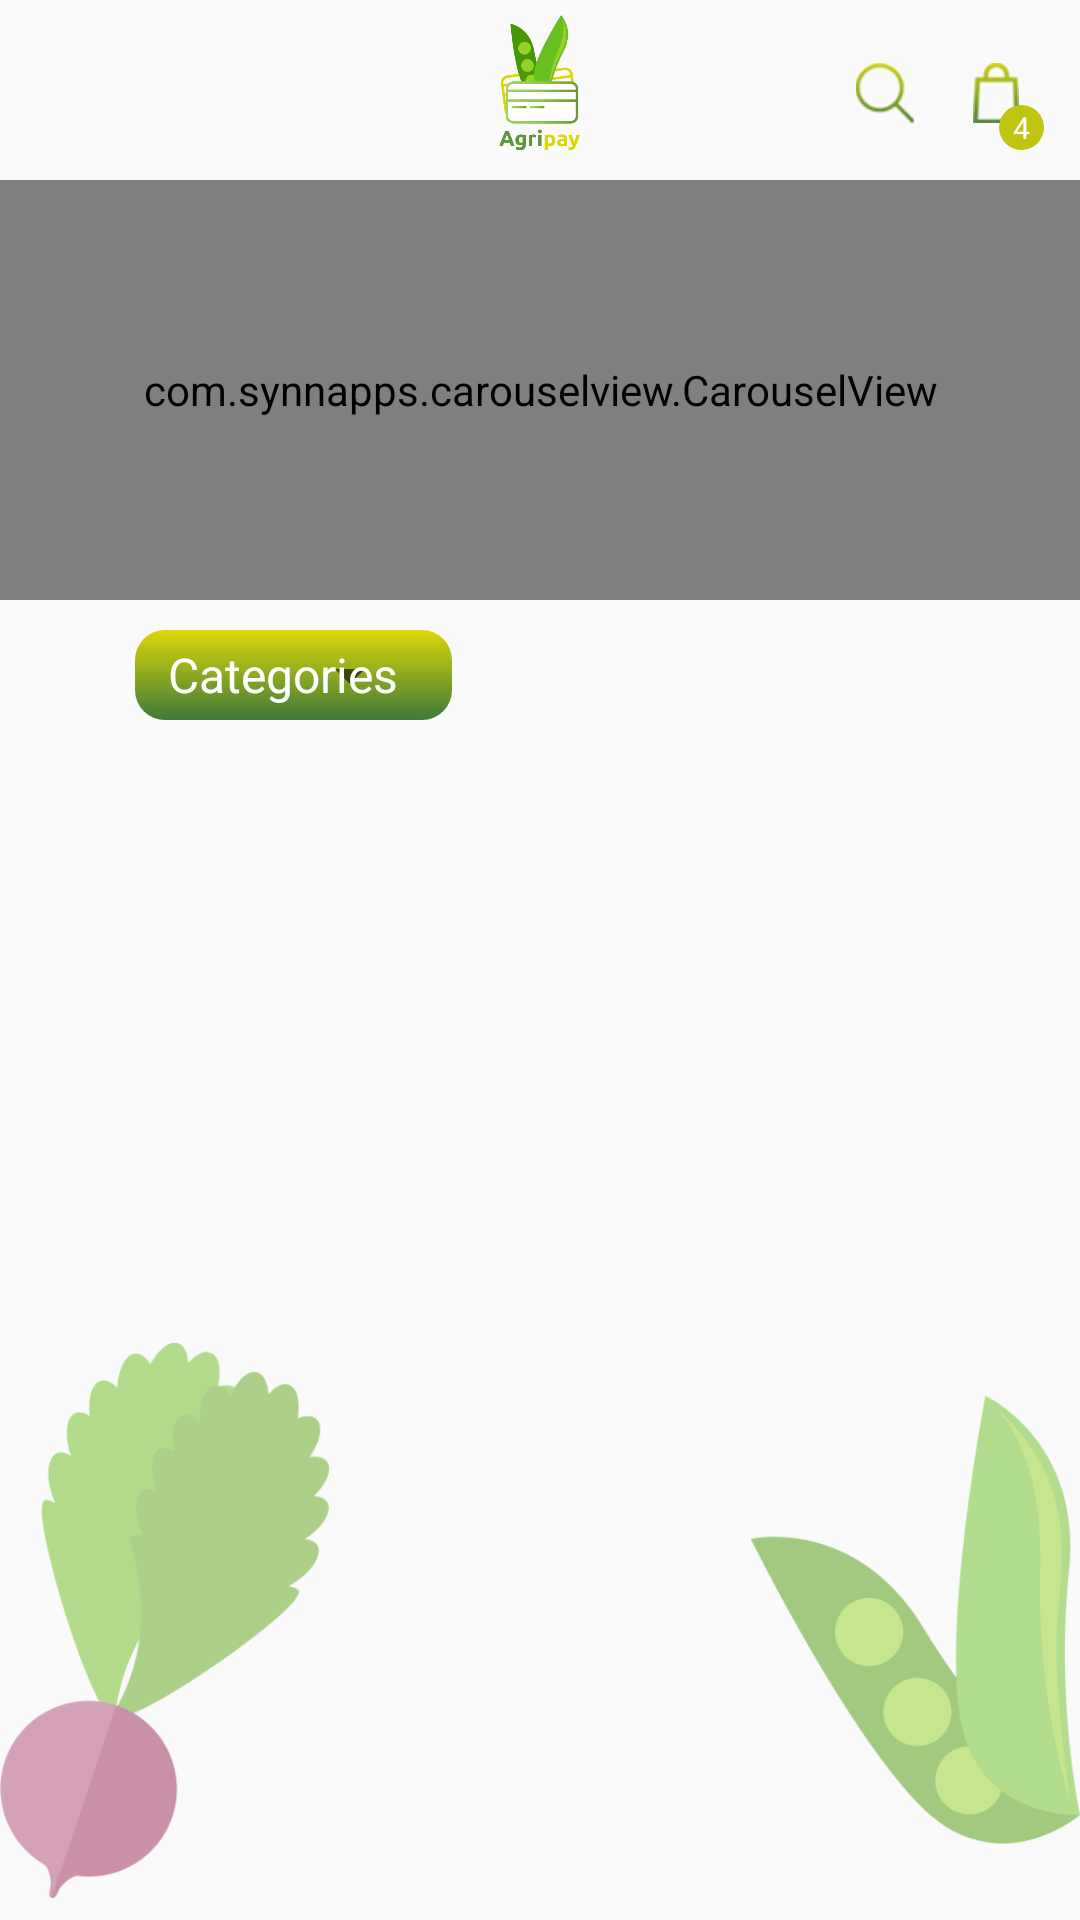

Locate icon controls on the screen. Image size 1080×1920, boxes as (x1, y1, x2, y2).
search: (856, 63, 914, 123)
shop cart: (973, 63, 1026, 123)
